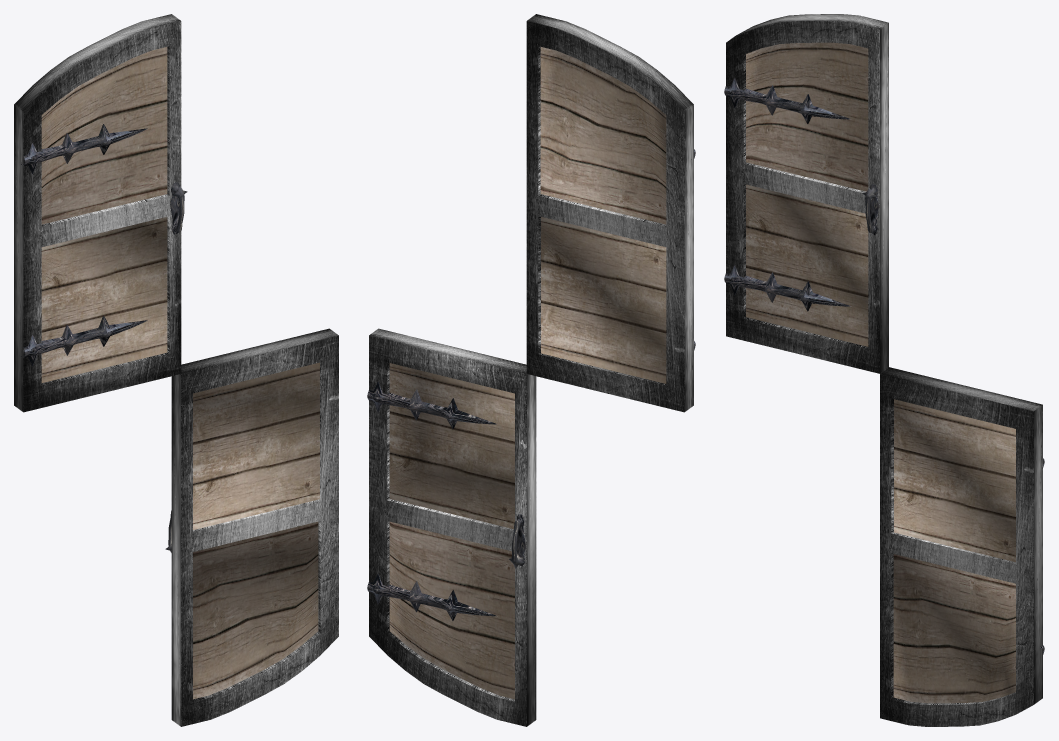
Rendered from medievalDoor.FBX.
The picture shows the model from 3 angles, left to right: view 1: azimuth 30°, elevation 25°; view 2: azimuth 150°, elevation 25°; view 3: azimuth 330°, elevation 25°; orthographic projection. The views are drawn at different scales.
Visible parts, largest first — view 1: Portao_Esquerdo, Portao_Direito; view 2: Portao_Esquerdo, Portao_Direito; view 3: Portao_Esquerdo, Portao_Direito.
Part boxes in pixels (<box>): Portao_Esquerdo: <box>14,14,187,412</box>; Portao_Direito: <box>165,328,338,726</box>; Portao_Esquerdo: <box>526,14,695,412</box>; Portao_Direito: <box>367,328,536,726</box>; Portao_Esquerdo: <box>724,14,888,373</box>; Portao_Direito: <box>880,367,1044,726</box>.
Size of the model in its own units: 38.4 by 82.13 by 5.11.
